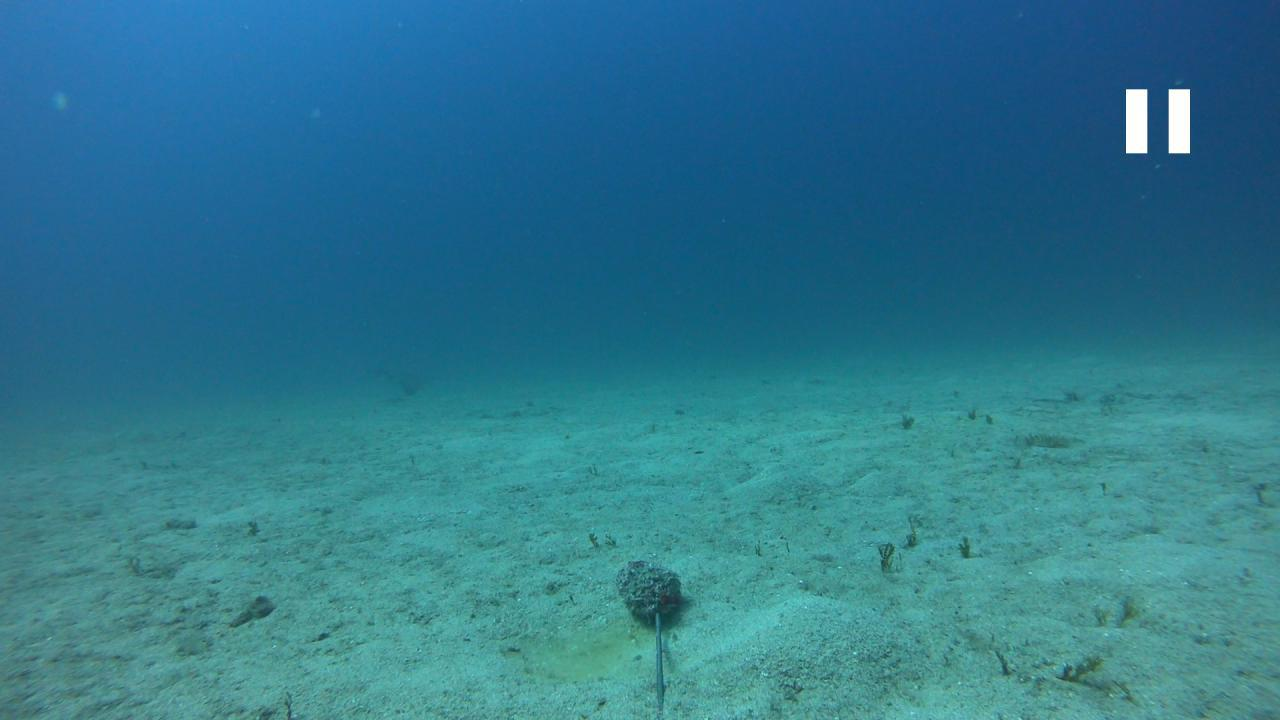dasyatis: (370, 364, 456, 394)
